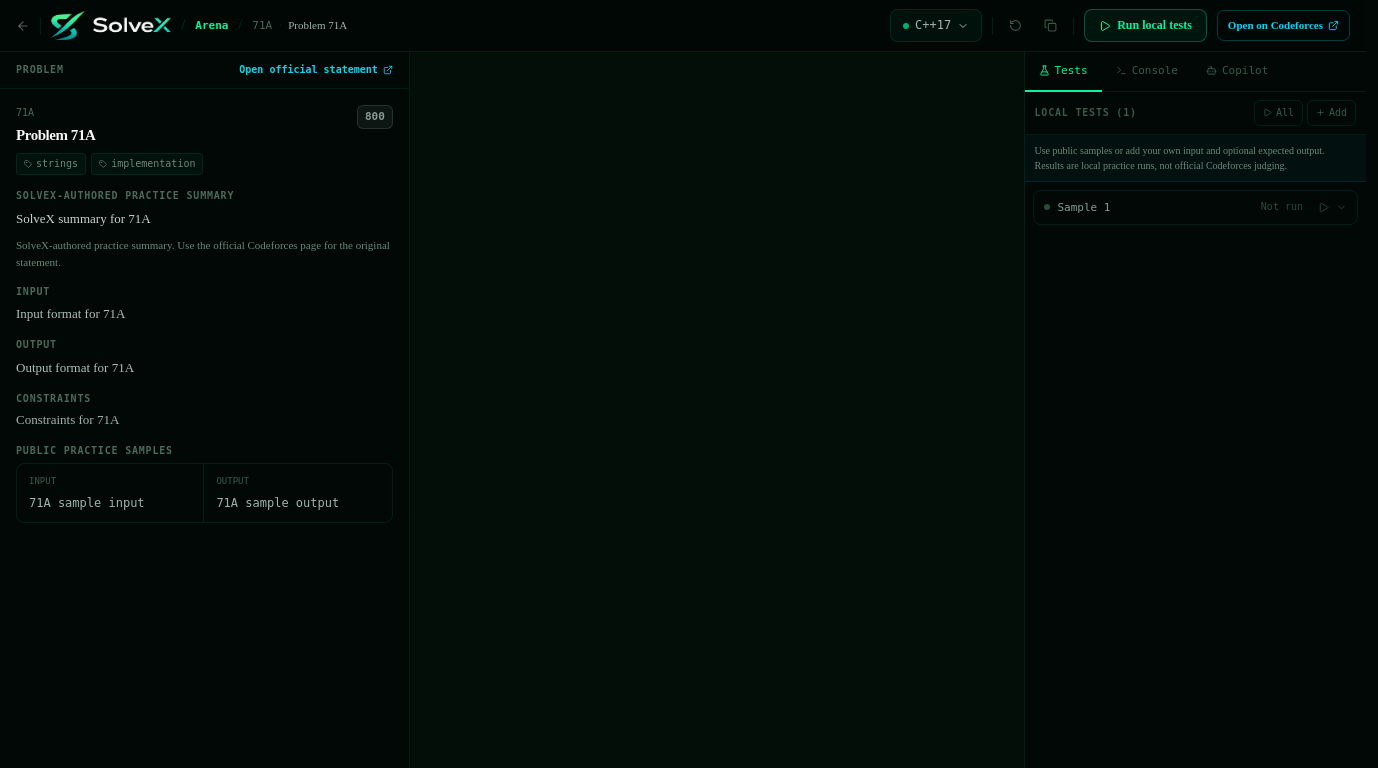
Test: Solo Arena problem loading › runs only the selected editable/public local test
Expected: the heading "Problem 71A" is shown, [16,125,95,145]
Click the button "Run local tests" at (1146, 26), box [1084,9,1207,42]
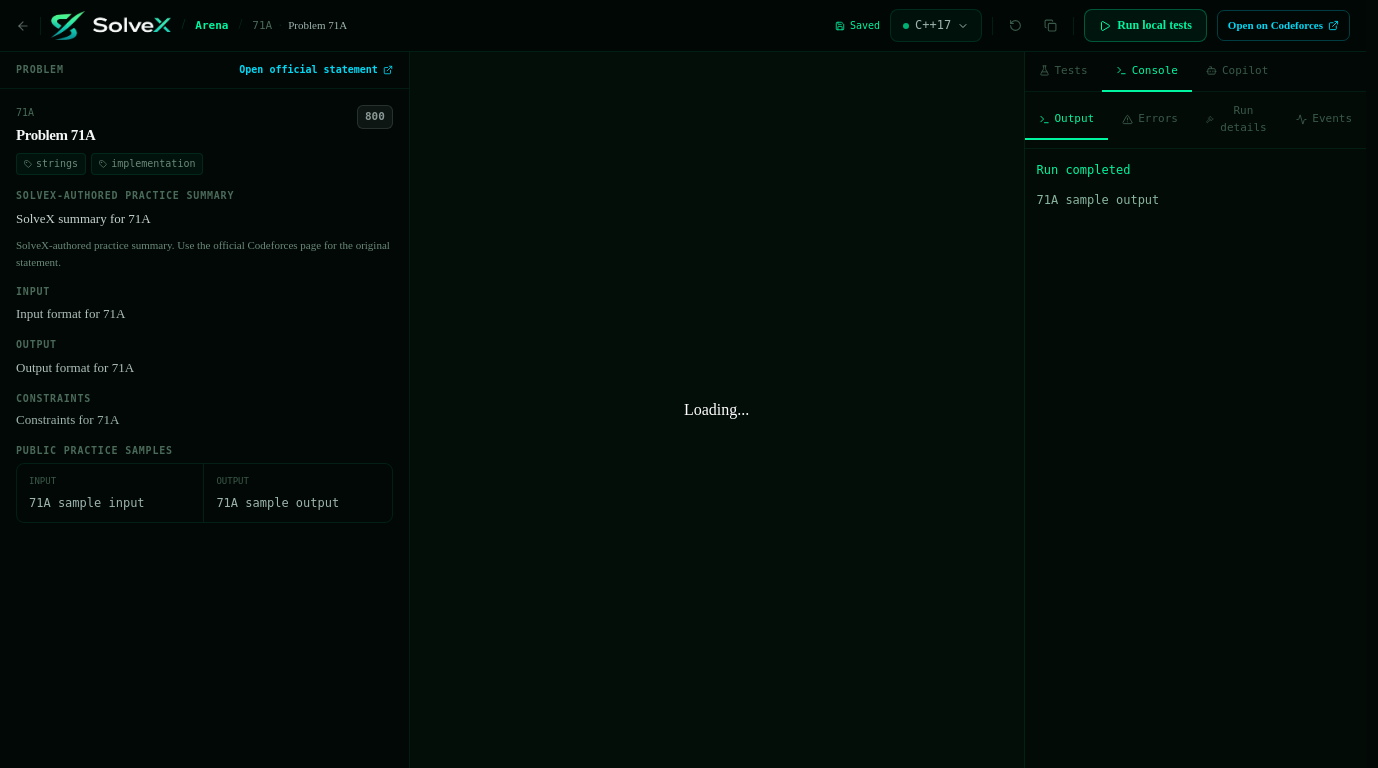
Expected: the text "Run completed" is shown, [1036,161,1130,180]
